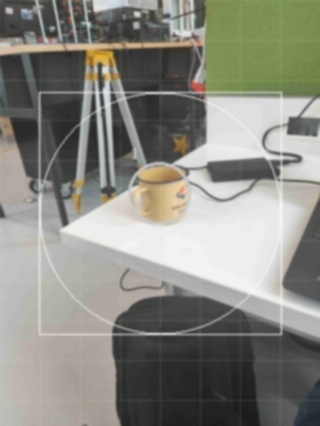Pelota blanca: (127, 161, 190, 227)
